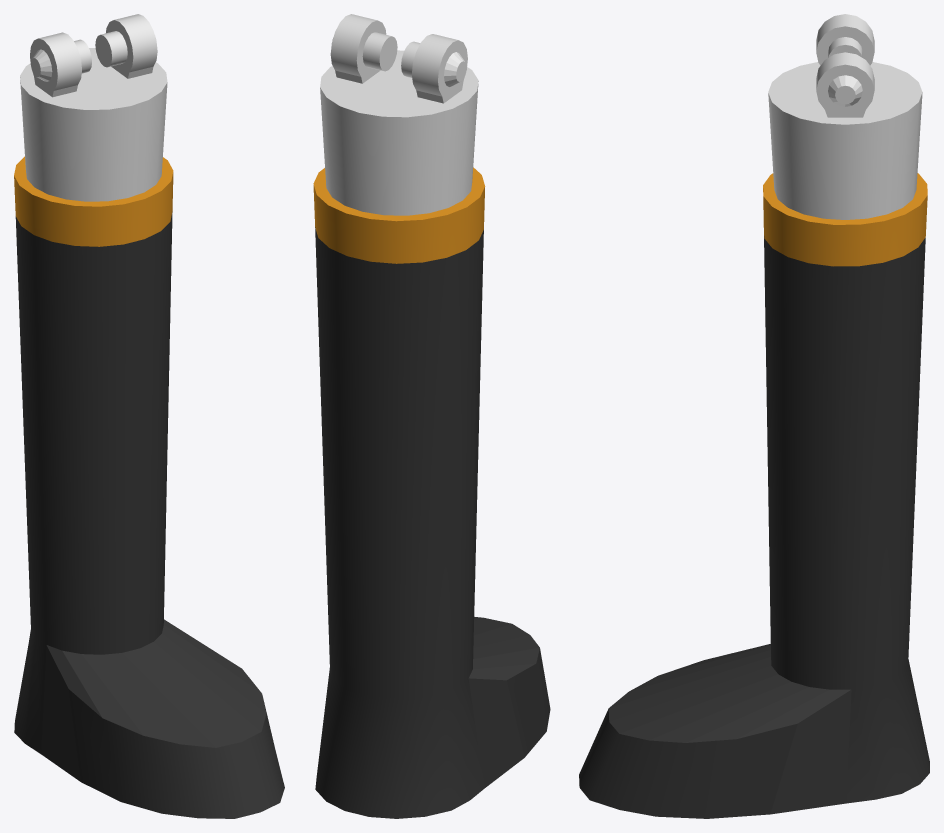
Rendered from ZenyattaLeftFoot.fbx.
3 views of the same model, side by side, from view 1: azimuth 30°, elevation 25°; view 2: azimuth 150°, elevation 25°; view 3: azimuth 270°, elevation 25° (orthographic). The views are drawn at different scales.
Visible parts, largest first — view 1: pPipe31; view 2: pPipe31; view 3: pPipe31.
Part boxes in pixels (bbox=[...]): pPipe31: bbox=[14, 14, 284, 818]; pPipe31: bbox=[313, 14, 550, 818]; pPipe31: bbox=[579, 14, 929, 818].
Bounding box in the file's own units: 6.35 × 25.13 × 10.97.
